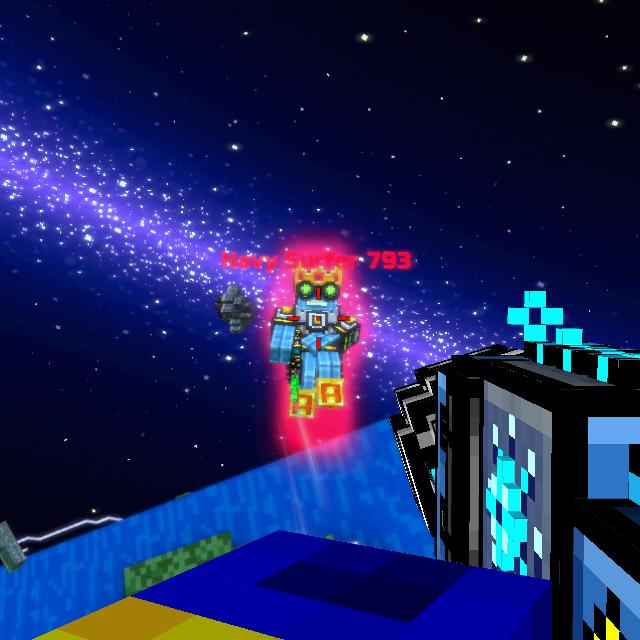Enemy: (269, 269, 361, 419)
